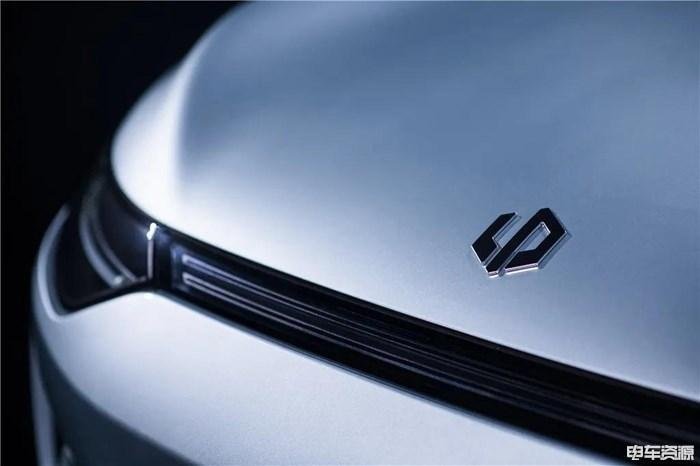LEAPMOTOR: (470, 204, 569, 276)
